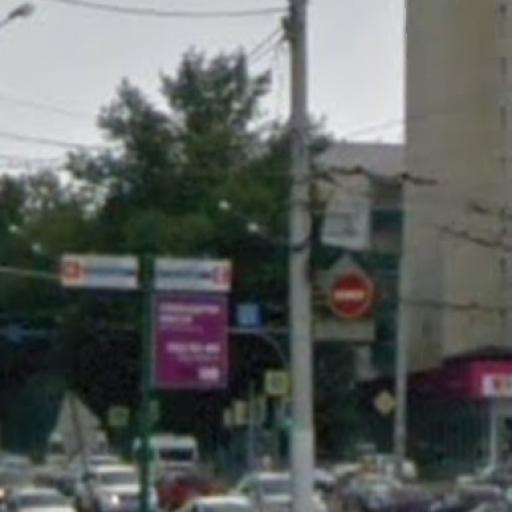traffic_sign: (327, 271, 378, 323)
